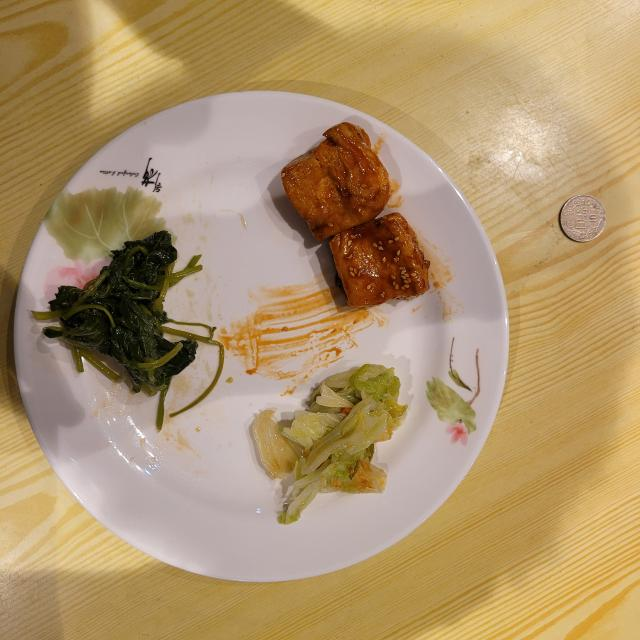cabbage: (251, 364, 408, 524)
coin: (560, 195, 606, 242)
creamy tofu: (281, 122, 430, 308)
sweet potato leaves: (32, 231, 224, 430)
